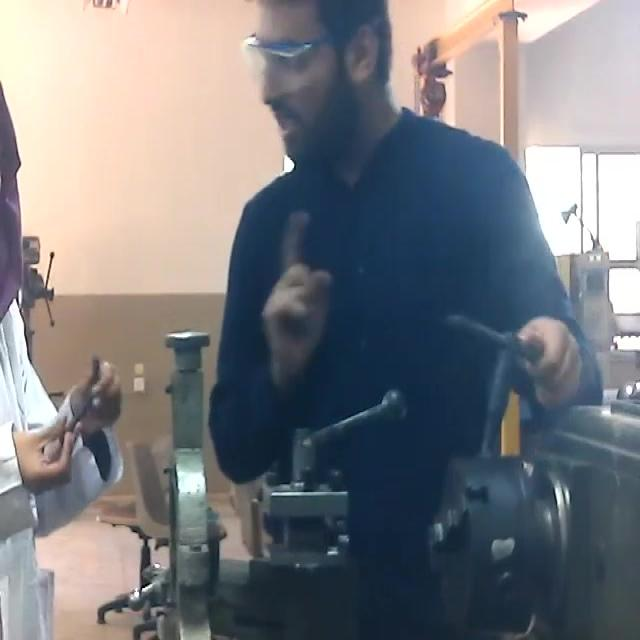googles: (245, 33, 315, 97)
labcoat: (2, 296, 123, 640)
